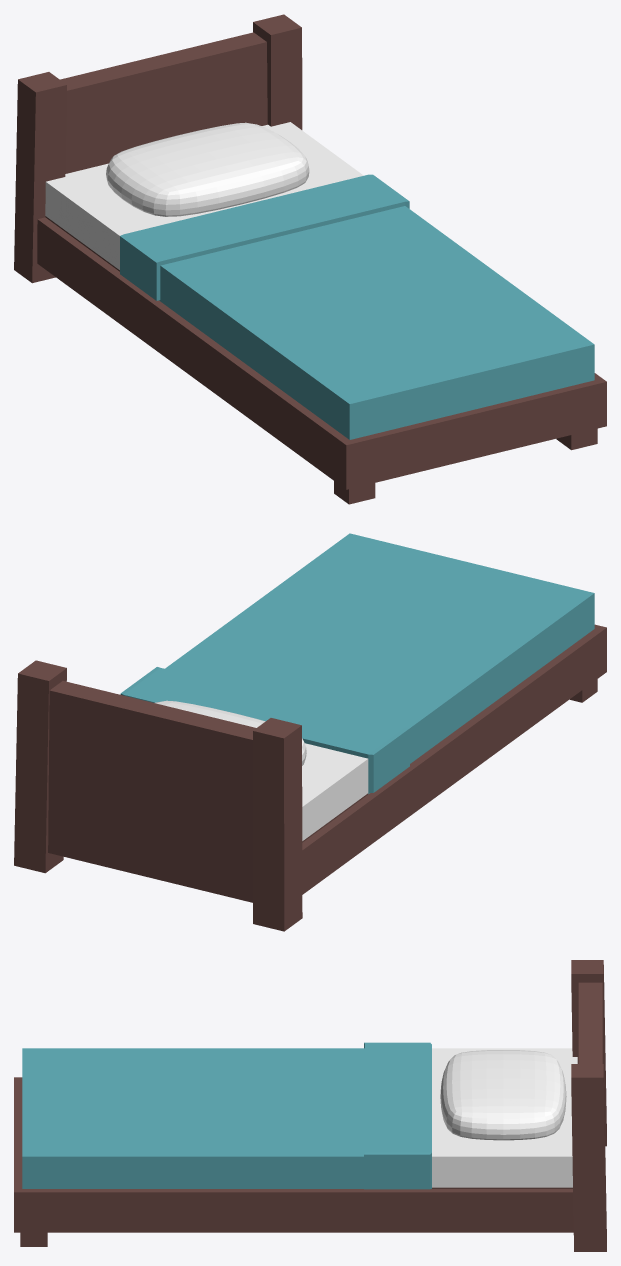
Rendered from individualbed_room.fbx.
3 renders of one model, top to bottom at view 1: azimuth 30°, elevation 25°; view 2: azimuth 150°, elevation 25°; view 3: azimuth 270°, elevation 25°, orthographic. The views are drawn at different scales.
Visible parts, largest first — view 1: Bed2_02; view 2: Bed2_02; view 3: Bed2_02.
Boxes of the visible parts, bbox=[...] form: Bed2_02: bbox=[14, 14, 606, 504]; Bed2_02: bbox=[14, 533, 606, 931]; Bed2_02: bbox=[14, 960, 606, 1251].
Bounding box in the file's own units: 208 × 141 × 436.
